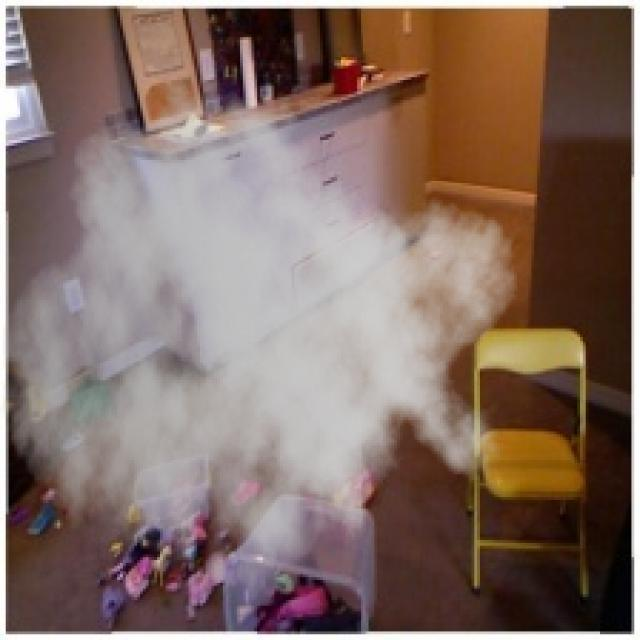Smoke: (0, 62, 520, 628)
